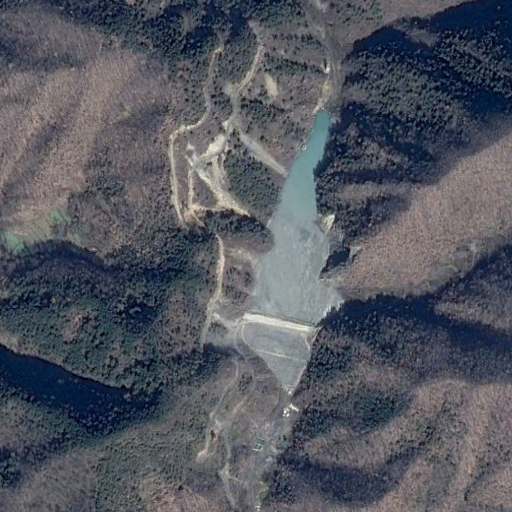tp: (237, 109, 337, 393)
